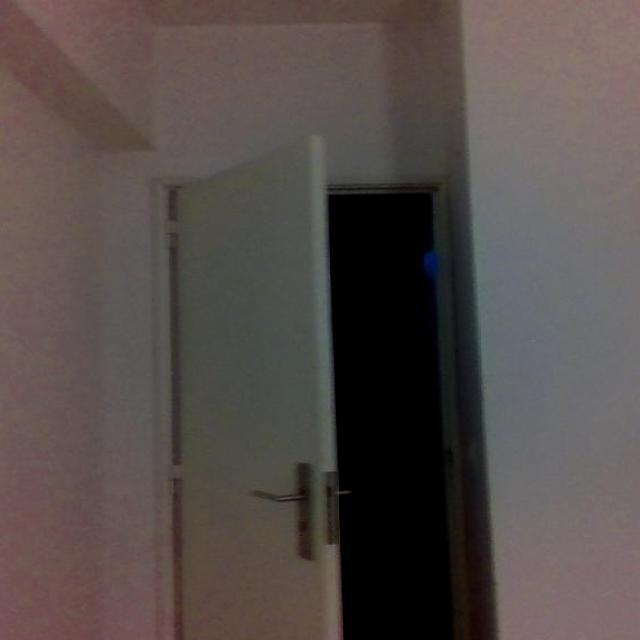door: (164, 133, 343, 638)
